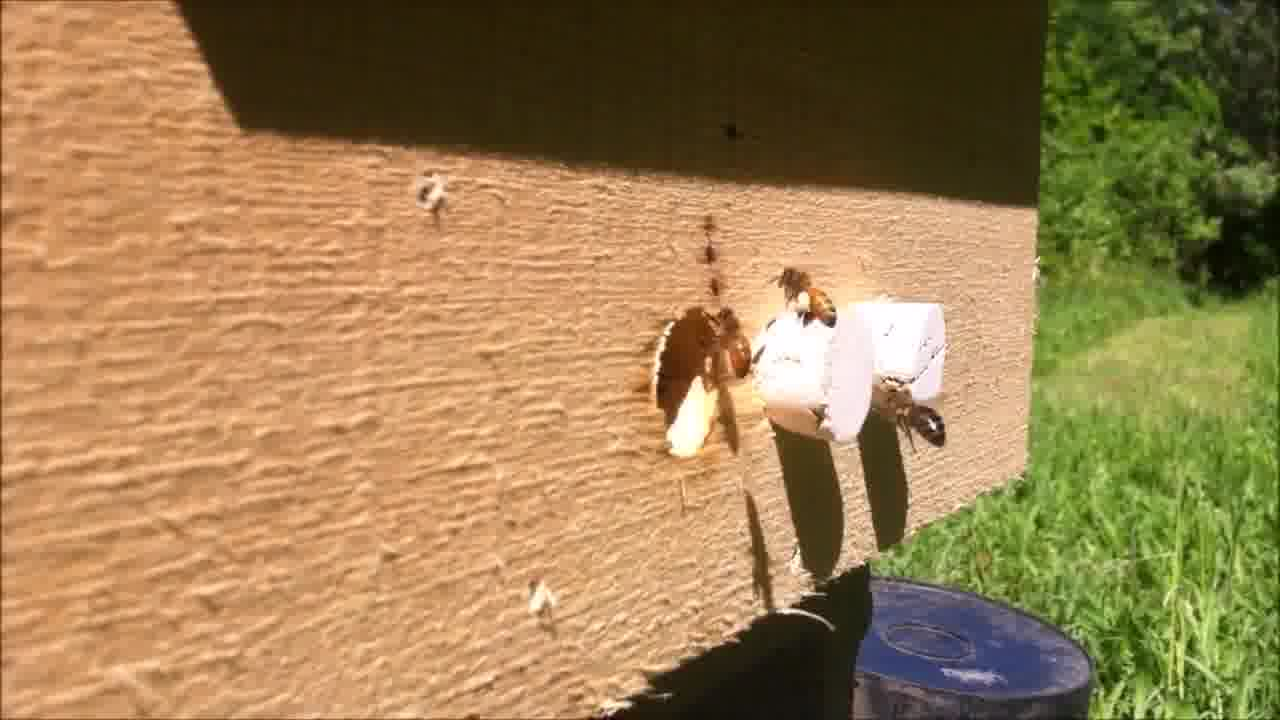pollen: (774, 261, 841, 332)
